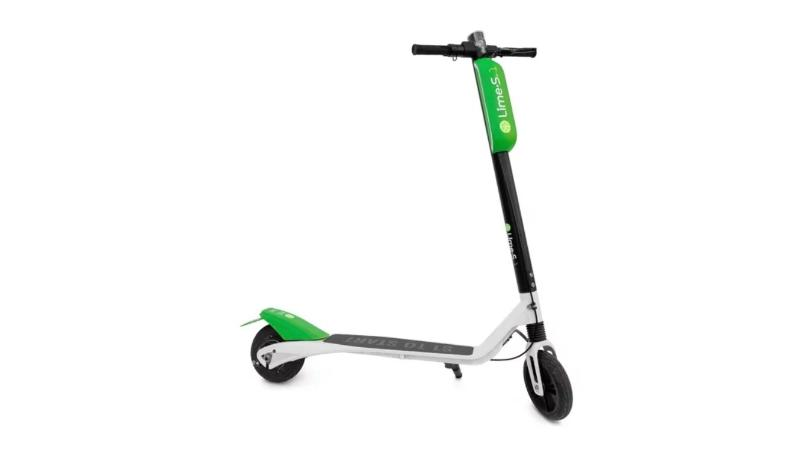scooter: (245, 26, 577, 424)
